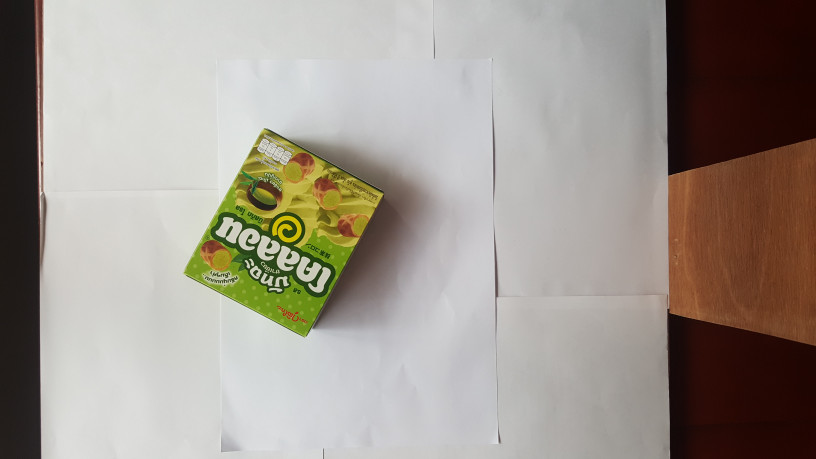collon-matcha: (181, 124, 384, 339)
